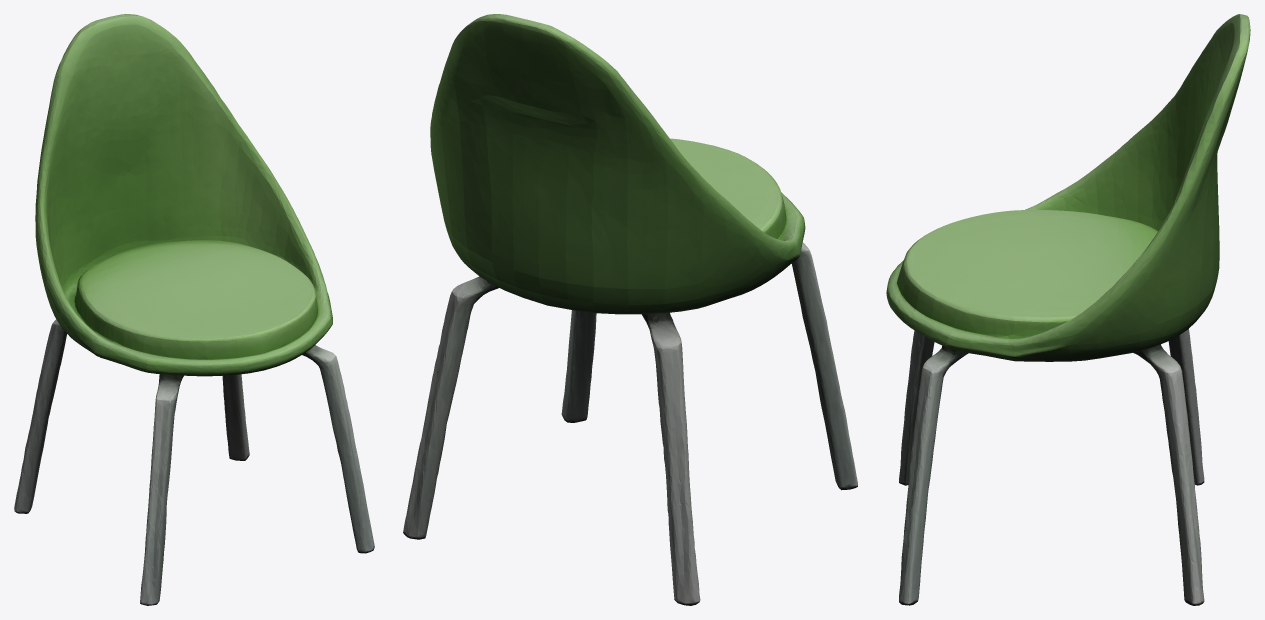
File: sample.glb
The picture shows the model from 3 angles, left to right: view 1: azimuth 30°, elevation 25°; view 2: azimuth 150°, elevation 25°; view 3: azimuth 270°, elevation 25°; orthographic projection. The views are drawn at different scales.
Visible parts, largest first — view 1: world; view 2: world; view 3: world.
Part boxes in pixels (left/top/right/bottom): world: left=14, top=14, right=374, bottom=605; world: left=403, top=14, right=857, bottom=605; world: left=886, top=14, right=1250, bottom=605.
Size of the model in its own units: 0.5884 by 1 by 0.6399.
1 material, 1 textured.
